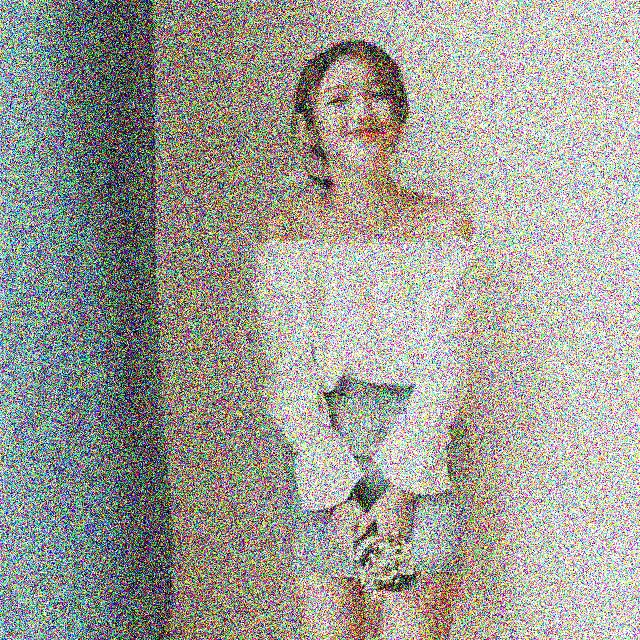Miniskirt: (283, 363, 470, 640)
Sleeveless: (424, 194, 475, 244), (254, 202, 291, 243)
low_neckline: (297, 184, 434, 387)
